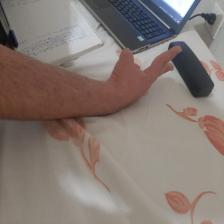two: (110, 42, 198, 113)
